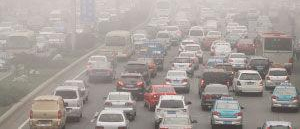bus: (252, 31, 296, 70), (104, 30, 133, 58)
car: (5, 31, 44, 67), (29, 95, 68, 129), (153, 94, 192, 127), (52, 84, 82, 122), (210, 95, 245, 127), (195, 68, 230, 99), (102, 91, 137, 120), (142, 83, 177, 111), (270, 79, 299, 112), (199, 82, 233, 110), (231, 69, 264, 94), (116, 71, 146, 98), (121, 60, 153, 85), (95, 107, 129, 129), (158, 111, 198, 129), (61, 79, 91, 103), (242, 56, 274, 77), (163, 69, 190, 92), (87, 60, 114, 82), (265, 66, 289, 89), (169, 55, 195, 75), (85, 55, 107, 76), (135, 56, 157, 77), (177, 50, 200, 70), (225, 52, 250, 69), (182, 44, 203, 64), (29, 34, 50, 54), (209, 39, 227, 57), (186, 26, 205, 43), (47, 32, 66, 49), (204, 30, 224, 46), (235, 38, 256, 53), (164, 24, 182, 41), (258, 120, 291, 129), (155, 30, 171, 48), (178, 39, 195, 55), (1, 20, 16, 38), (130, 32, 145, 48)
